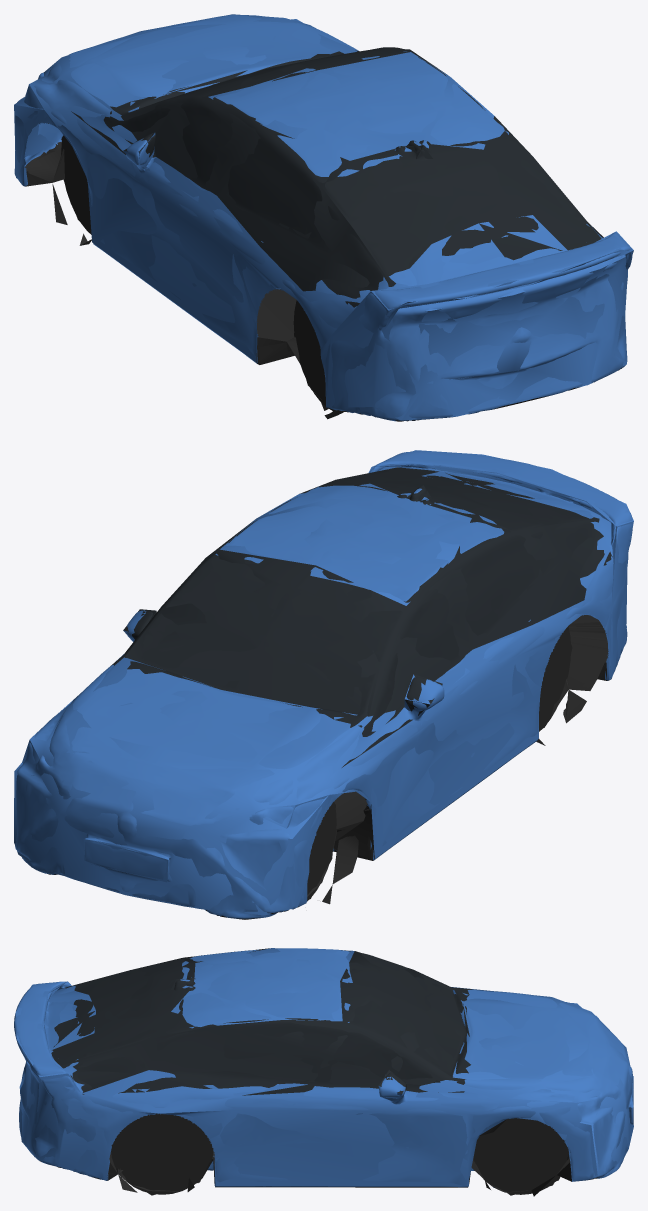
File: toyota-mirai.glb
3 renders of one model, top to bottom at view 1: azimuth 30°, elevation 25°; view 2: azimuth 150°, elevation 25°; view 3: azimuth 270°, elevation 25°, orthographic. The views are drawn at different scales.
Parts seen in each view (by area): view 1: body, far; view 2: body, far; view 3: body, far.
Part boxes in pixels (x1,y1,x2,y2): body: [14, 15, 632, 421]; far: [14, 14, 633, 420]; body: [15, 451, 632, 919]; far: [14, 450, 633, 915]; body: [14, 948, 633, 1196]; far: [14, 948, 633, 1195].
Size of the model in its own units: 2.21 by 1.61 by 5.02.
